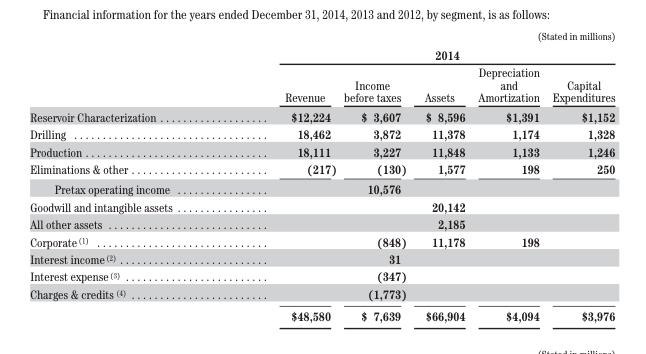table: (29, 29, 614, 323)
table column: (29, 29, 228, 323), (228, 29, 339, 323), (339, 29, 414, 323), (471, 29, 545, 323), (545, 29, 614, 323), (414, 29, 471, 323)
table column header: (29, 29, 614, 106)
table row: (29, 63, 614, 106), (29, 29, 614, 63), (29, 284, 614, 304), (29, 106, 614, 125), (29, 178, 614, 197), (29, 304, 614, 323), (29, 142, 614, 160), (29, 160, 614, 178), (29, 197, 614, 215), (29, 249, 614, 267), (29, 125, 614, 142), (29, 215, 614, 232), (29, 232, 614, 249), (29, 267, 614, 284)
table spanning cell: (228, 29, 614, 63)
